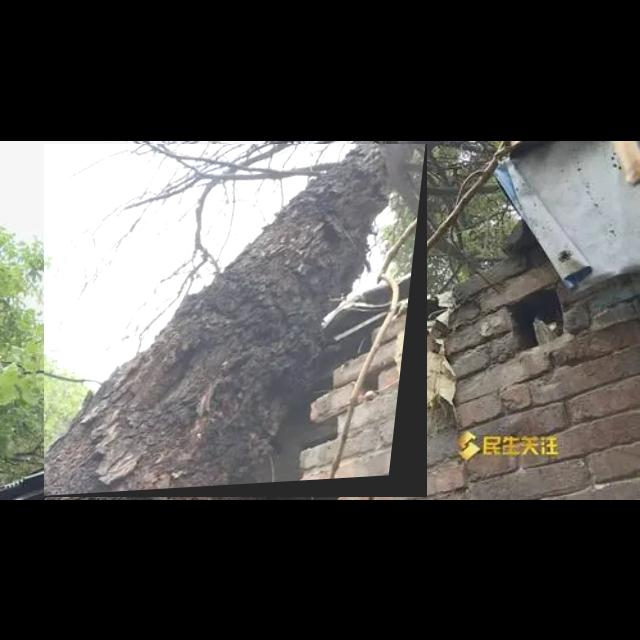Fallen Tree: (44, 144, 428, 498)
